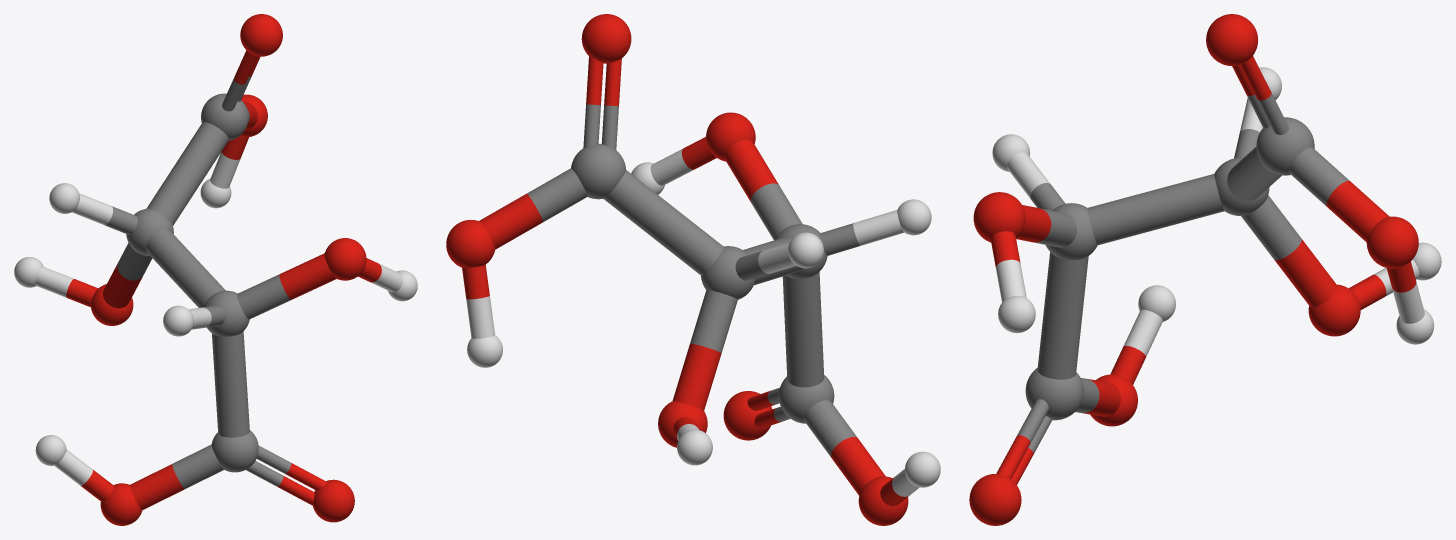
The model's file is SSTARTARICACID.MOL2.glb.
The picture shows the model from 3 angles, left to right: view 1: azimuth 30°, elevation 25°; view 2: azimuth 150°, elevation 25°; view 3: azimuth 270°, elevation 25°; orthographic projection. The views are drawn at different scales.
Size of the model in its own units: 3.99 by 5.04 by 4.13.
